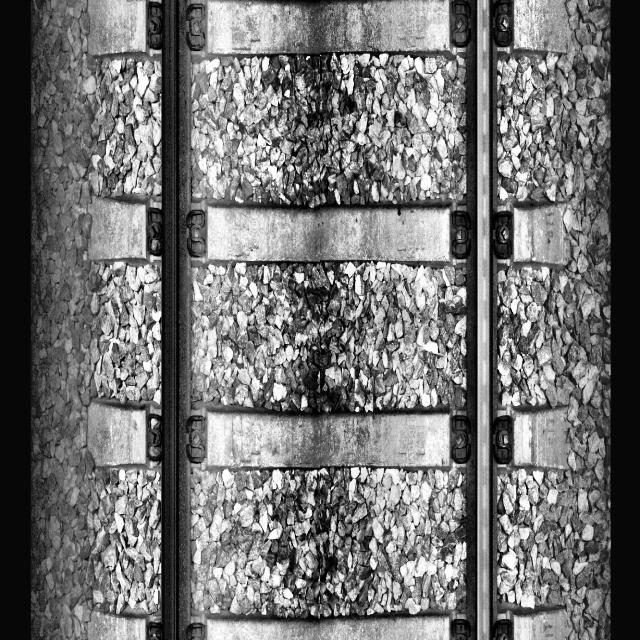Clips: (491, 409, 514, 466), (450, 207, 473, 261), (185, 206, 207, 260), (450, 412, 471, 465), (492, 0, 515, 47), (186, 411, 206, 464), (450, 0, 472, 48), (184, 0, 205, 50), (492, 210, 512, 260), (146, 0, 164, 52), (145, 412, 163, 462), (146, 203, 163, 255), (491, 615, 511, 640), (449, 617, 470, 640), (185, 620, 206, 640), (146, 619, 162, 640)
Sleepers: (83, 191, 566, 272), (86, 394, 573, 473), (84, 0, 570, 56), (85, 602, 568, 640)
